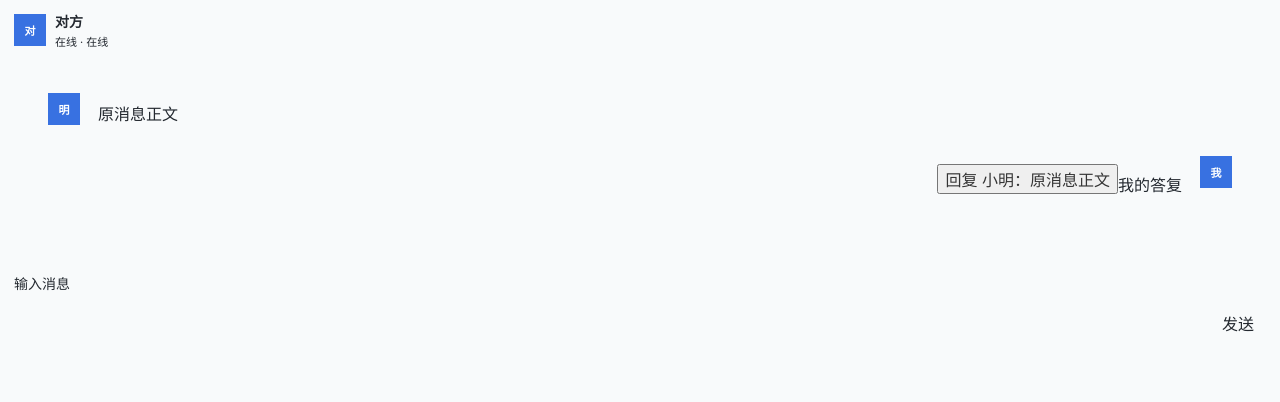
Test case: reply interactions › selects and cancels a reply from the message menu
The width and height of the screenshot is (1280, 402).
Right-click the text "原消息正文": (138, 114) [98, 104, 178, 124]
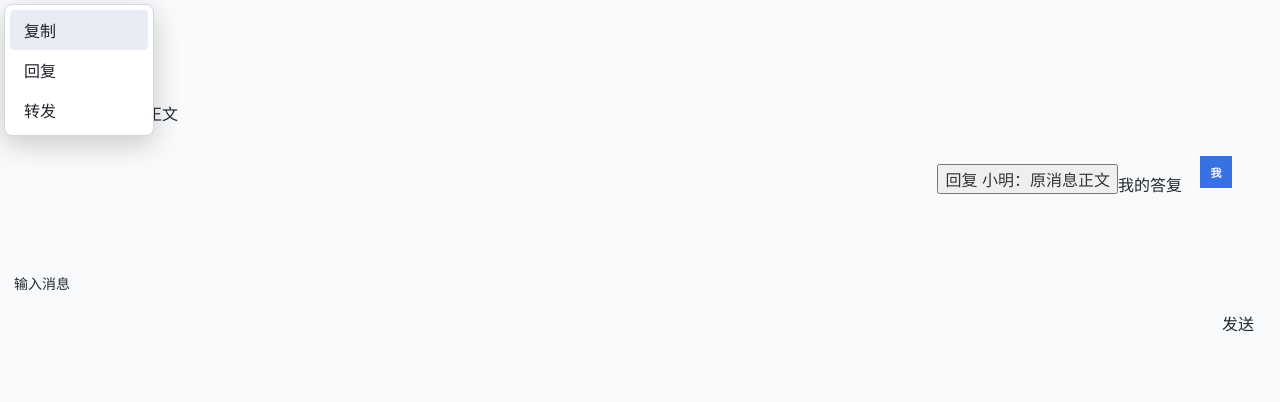
Click the menu item "回复": click(79, 70) [10, 50, 148, 90]
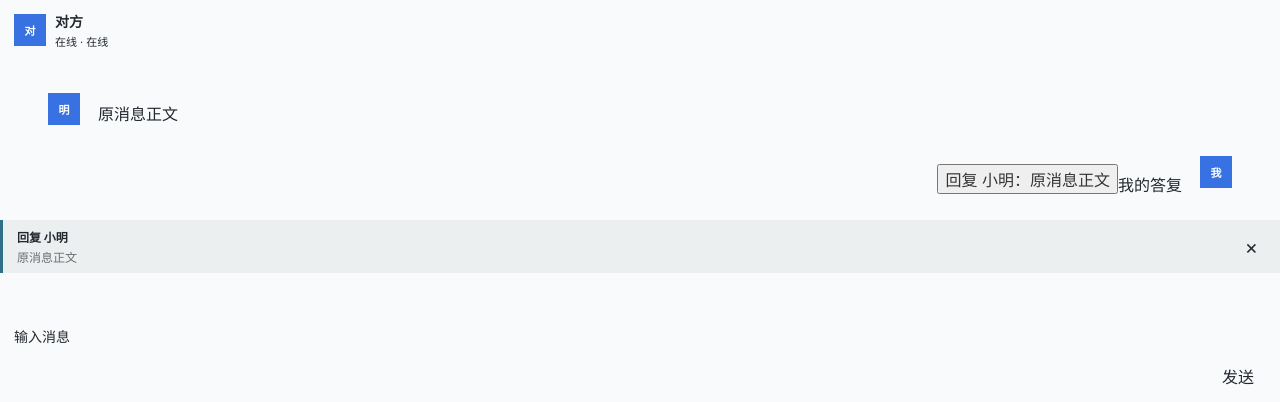
Result: the text "回复 小明" is shown at [17, 230, 68, 245]
Result: the 2nd text "原消息正文" is shown at [17, 250, 77, 265]
Click the button named "取消回复": click(1251, 246) [1237, 230, 1266, 262]
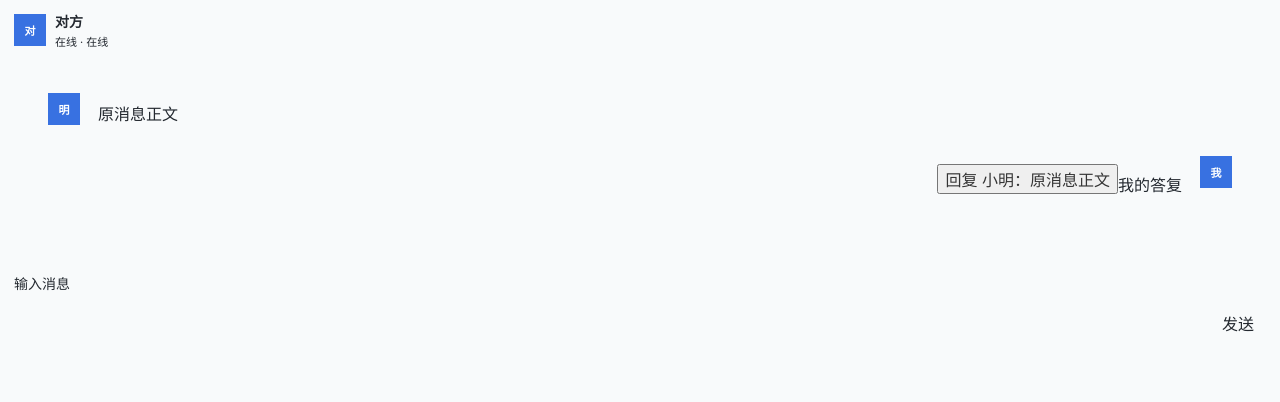
Result: the element "回复消息" is gone
